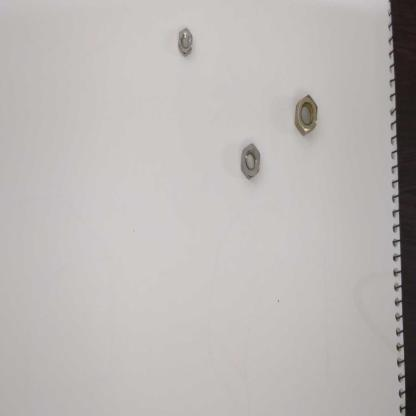NUTS: (294, 78, 322, 139), (240, 140, 262, 186), (178, 25, 193, 61)
